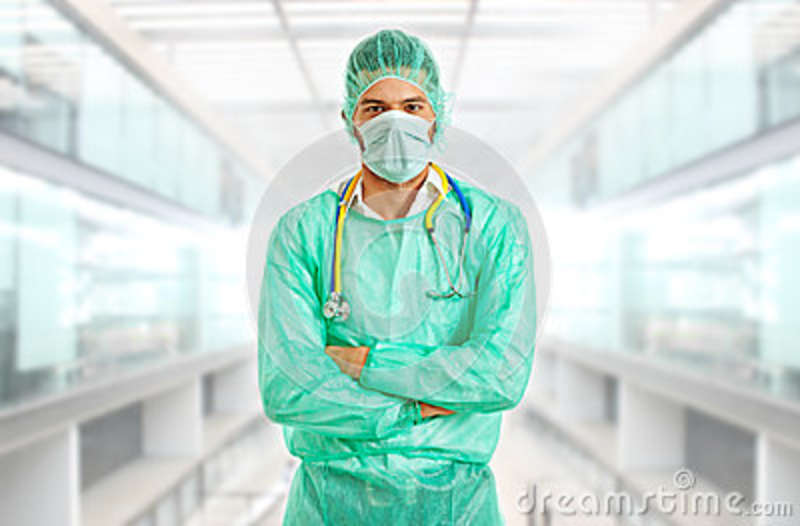mask: (357, 113, 436, 182)
